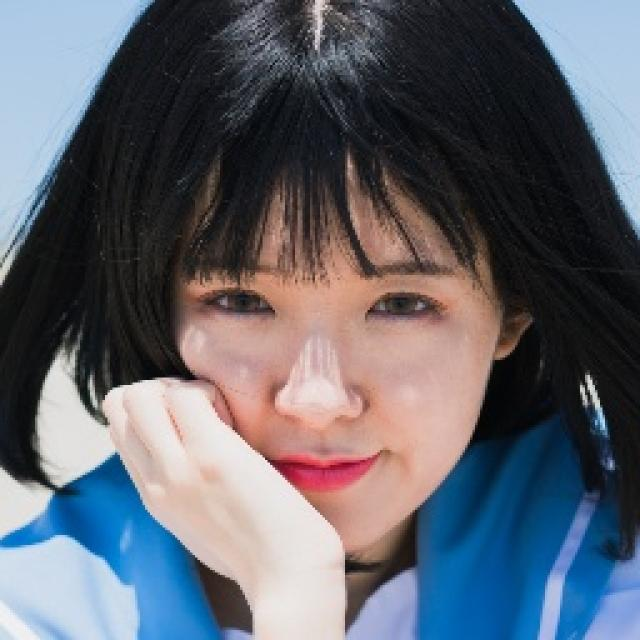earlobe: (493, 338, 519, 361)
eye: (203, 279, 280, 326), (359, 282, 439, 325)
nose: (279, 412, 358, 443)
wholeear: (496, 251, 555, 358)
